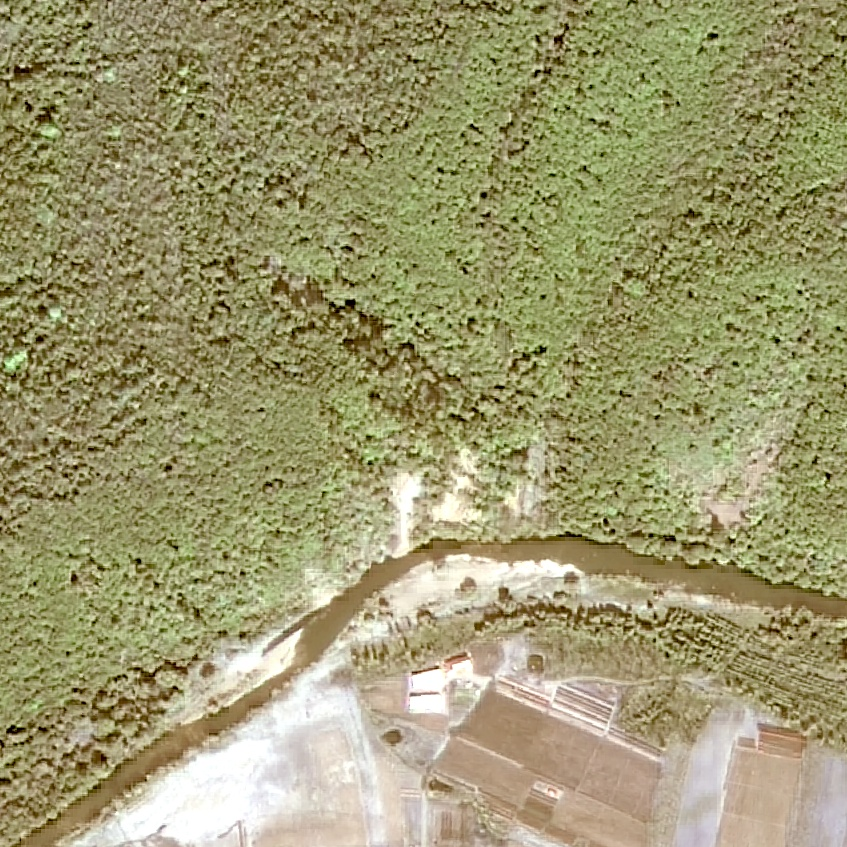slope: (379, 442, 546, 557)
